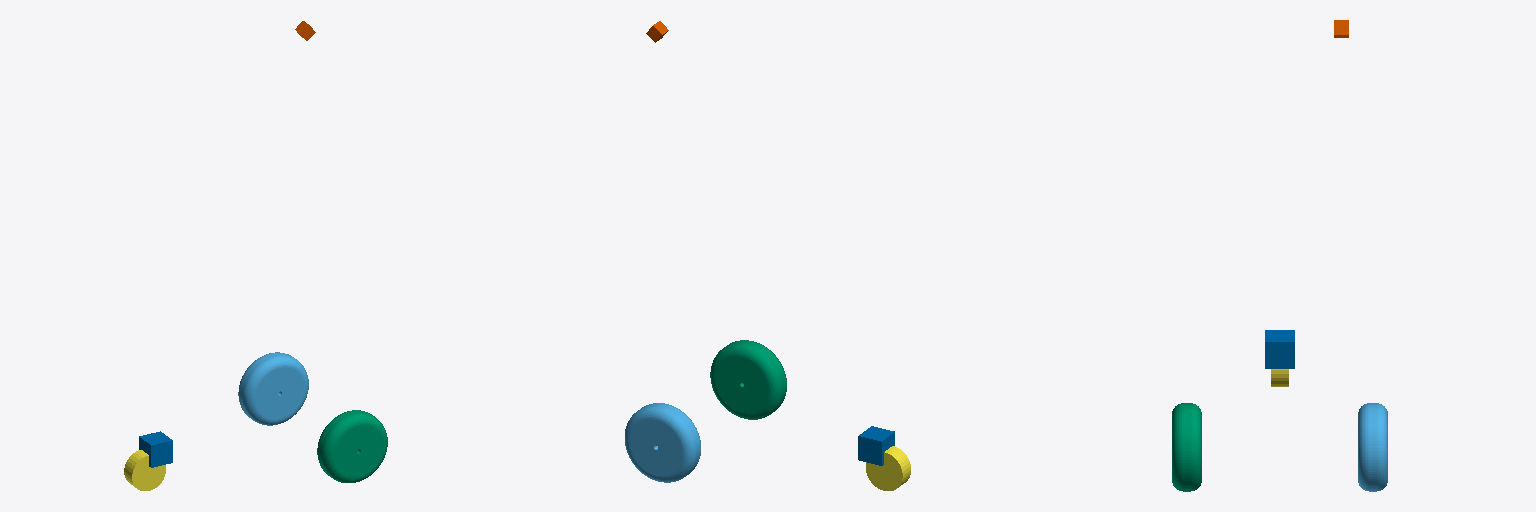
The robot description file, URDF, robot "primo":
<?xml version="1.0" ?>
<!-- =================================================================================== -->
<!-- |    This document was autogenerated by xacro from primo_sim.xacro                | -->
<!-- |    EDITING THIS FILE BY HAND IS NOT RECOMMENDED                                 | -->
<!-- =================================================================================== -->
<robot name="primo" xmlns:xacro="http://www.ros.org/wiki/xacro">
  <gazebo>
    <plugin filename="libgazebo_ros_control.so" name="gazebo_ros_control">
      <robotNamespace>/</robotNamespace>
    </plugin>
  </gazebo>
  <gazebo>
    <plugin filename="libgazebo_ros_diff_drive.so" name="differential_drive_controller">
      <legacyMode>false</legacyMode>
      <alwaysOn>true</alwaysOn>
      <updateRate>10</updateRate>
      <leftJoint>left_wheel_joint</leftJoint>
      <rightJoint>right_wheel_joint</rightJoint>
      <wheelSeparation>0.4</wheelSeparation>
      <wheelDiameter>0.2</wheelDiameter>
      <torque>10</torque>
      <commandTopic>cmd_vel</commandTopic>
      <odometryTopic>odom</odometryTopic>
      <odometryFrame>odom</odometryFrame>
      <robotBaseFrame>chassis</robotBaseFrame>
    </plugin>
  </gazebo>
  <gazebo reference="link_seecam1">
    <material>Gazebo/Green</material>
    <sensor name="seecam1" type="camera">
      <update_rate>30.0</update_rate>
      <camera name="head">
        <horizontal_fov>1.3962634</horizontal_fov>
        <image>
          <width>800</width>
          <height>600</height>
          <format>R8G8B8</format>
        </image>
        <clip>
          <near>0.02</near>
          <far>300</far>
        </clip>
      </camera>
      <plugin filename="libgazebo_ros_camera.so" name="camera_controller">
        <alwaysOn>true</alwaysOn>
        <updateRate>0.0</updateRate>
        <cameraName>primo/camera1</cameraName>
        <imageTopicName>image_raw</imageTopicName>
        <cameraInfoTopicName>camera_info</cameraInfoTopicName>
        <frameName>link_seecam1</frameName>
        <hackBaseline>0.07</hackBaseline>
        <distortionK1>0.0</distortionK1>
        <distortionK2>0.0</distortionK2>
        <distortionK3>0.0</distortionK3>
        <distortionT1>0.0</distortionT1>
        <distortionT2>0.0</distortionT2>
      </plugin>
    </sensor>
  </gazebo>
  <link name="base_link">
    <visual>
      <geometry>
        <mesh filename="package://primo_description/meshes/r1_primo_sim.stl"/>
      </geometry>
    </visual>
    <collision name="collision">
      <origin xyz="0 0 .4"/>
      <geometry>
        <box size=".94 .66 .5"/>
      </geometry>
    </collision>
    <inertial>
      <mass value="15.0"/>
      <origin rpy=" 0 0 0" xyz="0.0 0 0.001"/>
      <inertia ixx="0.1" ixy="0" ixz="0" iyy="0.1" iyz="0" izz="0.1"/>
    </inertial>
  </link>
  <link name="left_wheel">
    <visual>
      <geometry>
        <mesh filename="package://primo_description/meshes/r1_wheel.stl"/>
      </geometry>
    </visual>
    <origin rpy="0 0 0" xyz="0 0 0"/>
    <collision name="collision">
      <!-- <origin xyz="0 0 0" rpy="0 1.5707 1.5707"/> -->
      <origin rpy="0 0 0" xyz="0 0 0"/>
      <geometry>
        <cylinder length="0.064" radius="0.1145"/>
      </geometry>
    </collision>
    <inertial>
      <origin rpy="0 1.5707 1.5707" xyz="0 0 0"/>
      <mass value="5"/>
      <inertia ixx=".1" ixy="0.0" ixz="0.0" iyy=".1" iyz="0.0" izz=".1"/>
    </inertial>
  </link>
  <joint name="left_wheel_joint" type="continuous">
    <parent link="base_link"/>
    <child link="left_wheel"/>
    <origin rpy="0 0 0" xyz="0 0.3175 0.1510"/>
    <axis rpy="0 0 0" xyz="0 1 0"/>
  </joint>
  <!-- Gazebo wheel reference -->
  <gazebo reference="left_wheel">
    <mu1 value="200.0"/>
    <mu2 value="100.0"/>
    <kp value="10000000.0"/>
    <kd value="1.0"/>
    <material>Gazebo/Black</material>
  </gazebo>
  <transmission name="left_wheel">
    <type>transmission_interface/SimpleTransmission</type>
    <actuator name="left_wheel_motor">
      <mechanicalReduction>1</mechanicalReduction>
    </actuator>
    <joint name="left_wheel_joint">
      <hardwareInterface>hardware_interface/VelocityJointInterface</hardwareInterface>
    </joint>
  </transmission>
  <link name="right_wheel">
    <visual>
      <geometry>
        <mesh filename="package://primo_description/meshes/r1_wheel.stl"/>
      </geometry>
    </visual>
    <origin rpy="0 0 0" xyz="0 0 0"/>
    <collision name="collision">
      <!-- <origin xyz="0 0 0" rpy="0 1.5707 1.5707"/> -->
      <origin rpy="0 0 0" xyz="0 0 0"/>
      <geometry>
        <cylinder length="0.064" radius="0.1145"/>
      </geometry>
    </collision>
    <inertial>
      <origin rpy="0 1.5707 1.5707" xyz="0 0 0"/>
      <mass value="5"/>
      <inertia ixx=".1" ixy="0.0" ixz="0.0" iyy=".1" iyz="0.0" izz=".1"/>
    </inertial>
  </link>
  <joint name="right_wheel_joint" type="continuous">
    <parent link="base_link"/>
    <child link="right_wheel"/>
    <origin rpy="0 0 0" xyz="0 -0.3175 0.1510"/>
    <axis rpy="0 0 0" xyz="0 1 0"/>
  </joint>
  <!-- Gazebo wheel reference -->
  <gazebo reference="right_wheel">
    <mu1 value="200.0"/>
    <mu2 value="100.0"/>
    <kp value="10000000.0"/>
    <kd value="1.0"/>
    <material>Gazebo/Black</material>
  </gazebo>
  <transmission name="right_wheel">
    <type>transmission_interface/SimpleTransmission</type>
    <actuator name="right_wheel_motor">
      <mechanicalReduction>1</mechanicalReduction>
    </actuator>
    <joint name="right_wheel_joint">
      <hardwareInterface>hardware_interface/VelocityJointInterface</hardwareInterface>
    </joint>
  </transmission>
  <link name="tail_wheel">
    <visual>
      <geometry>
        <cylinder length="0.064" radius="0.0795"/>
      </geometry>
    </visual>
    <origin rpy="0 0 0" xyz="0 0 0"/>
    <collision name="collision">
      <origin rpy="0 0 0" xyz="0 0 0"/>
      <geometry>
        <cylinder length="0.064" radius="0.0795"/>
      </geometry>
    </collision>
    <inertial>
      <origin rpy="0 1.5707 1.5707" xyz="0 0 0"/>
      <mass value="1"/>
      <inertia ixx=".1" ixy="0.0" ixz="0.0" iyy=".1" iyz="0.0" izz=".1"/>
    </inertial>
  </link>
  <joint name="wheel_to_block" type="continuous">
    <parent link="tail_wheel_block"/>
    <child link="tail_wheel"/>
    <origin rpy="1.5707 0 0" xyz="-.05 0 -0.0795"/>
    <axis rpy="0 0 0" xyz="0 0 1"/>
  </joint>
  <transmission name="tail_wheel_spin_trans">
    <type>transmission_interface/SimpleTransmission</type>
    <actuator name="tail_wheel_spin_motor">
      <mechanicalReduction>1</mechanicalReduction>
    </actuator>
    <joint name="wheel_to_block">
      <hardwareInterface>hardware_interface/PositionJointInterface</hardwareInterface>
    </joint>
  </transmission>
  <link name="tail_wheel_block">
    <visual>
      <geometry>
        <box size=".1 .1 .1"/>
      </geometry>
    </visual>
    <origin rpy="0 0 0" xyz="0 0 0"/>
    <collision name="collision">
      <origin rpy="0 1.5707 1.5707" xyz="0 0 0"/>
      <geometry>
        <box size=".1 .1 .1"/>
      </geometry>
    </collision>
    <inertial>
      <origin rpy="0 1.5707 1.5707" xyz="0 0 0"/>
      <mass value="1"/>
      <inertia ixx=".1" ixy="0.0" ixz="0.0" iyy=".1" iyz="0.0" izz=".1"/>
    </inertial>
  </link>
  <joint name="wheel_block" type="continuous">
    <parent link="base_link"/>
    <child link="tail_wheel_block"/>
    <origin rpy="0 0 0" xyz="-0.730 0 0.180"/>
    <axis rpy="0 0 0" xyz="0 0 1"/>
  </joint>
  <transmission name="tail_wheel_swivel_trans">
    <type>transmission_interface/SimpleTransmission</type>
    <actuator name="tail_wheel_swivel_motor">
      <mechanicalReduction>1</mechanicalReduction>
    </actuator>
    <joint name="wheel_block">
      <hardwareInterface>hardware_interface/PositionJointInterface</hardwareInterface>
    </joint>
  </transmission>
  <link name="stereo0_link">
    <!-- this name is required for the point cloud -->
    <collision>
      <origin rpy="0 0 0" xyz="0 0 0"/>
      <geometry>
        <box size="0.05 0.05 0.05"/>
      </geometry>
    </collision>
    <visual>
      <origin rpy="0 0 0" xyz="0 0 0"/>
      <geometry>
        <box size="0.05 0.05 0.05"/>
      </geometry>
      <material name="red"/>
    </visual>
    <inertial>
      <mass value="0.1"/>
      <origin rpy="0 0 0" xyz="0 0 0"/>
      <box_inertia m="0.1" x="0.05" y="0.05" z="0.05"/>
      <inertia ixx="1e-6" ixy="0" ixz="0" iyy="1e-6" iyz="0" izz="1e-6"/>
    </inertial>
  </link>
  <joint name="stereo0_joint" type="fixed">
    <!-- origin xyz=".1 -.10 1.143" rpy="-1.570796 0 -1.570796"/-->
    <origin rpy="-2.48 0 -1.570796" xyz=".085 .210 1.765"/>
    <parent link="base_link"/>
    <child link="stereo0_link"/>
  </joint>
</robot>

--- What the picture shows (computed from the rendered views, not written in the file) ---
Views: 3 orthographic renders of the robot side by side, from view 1: azimuth 30°, elevation 25°; view 2: azimuth 150°, elevation 25°; view 3: azimuth 270°, elevation 25°.
Robot: primo — 6 links, 5 joints (4 continuous, 1 fixed); root link base_link; default pose: every joint at zero.
Visible links, largest first — view 1: right_wheel, left_wheel, tail_wheel, tail_wheel_block; view 2: right_wheel, left_wheel, tail_wheel, tail_wheel_block; view 3: left_wheel, right_wheel, tail_wheel_block.
Boxes of the visible links, x1=… form: right_wheel: x1=317, y1=410, x2=387, y2=482; left_wheel: x1=238, y1=352, x2=308, y2=425; tail_wheel: x1=124, y1=450, x2=165, y2=490; tail_wheel_block: x1=139, y1=431, x2=172, y2=467; right_wheel: x1=710, y1=340, x2=786, y2=419; left_wheel: x1=625, y1=403, x2=700, y2=482; tail_wheel: x1=866, y1=446, x2=910, y2=490; tail_wheel_block: x1=858, y1=426, x2=894, y2=465; left_wheel: x1=1358, y1=403, x2=1387, y2=491; right_wheel: x1=1172, y1=403, x2=1201, y2=491; tail_wheel_block: x1=1265, y1=330, x2=1294, y2=368.
Bounding box of the posed robot: 1.01 × 0.7366 × 1.8 m (x, y, z).
2 mesh visuals loaded from 2 distinct referenced files (1 binary STL); not drawn: 1 (reference not matched to a file when rendering).